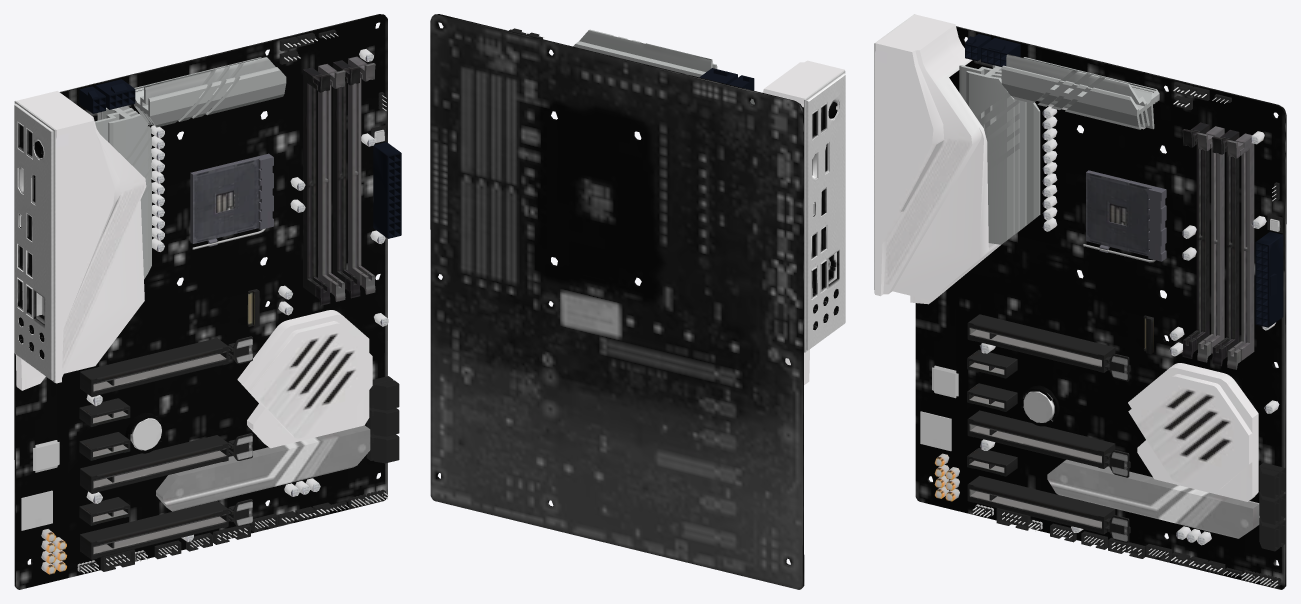
Rendered from motherboard_x570_lod1.glb.
3 views of the same model, side by side, from view 1: azimuth 30°, elevation 25°; view 2: azimuth 150°, elevation 25°; view 3: azimuth 330°, elevation 25° (orthographic).
Parts seen in each view (by area): view 1: pCylinder41_M_Mobo_0, polySurface20_f_2693_1_M_Cover_0, polySurface21_M_sockets_0; view 2: pCylinder41_M_Mobo_0, polySurface21_M_sockets_0, polySurface20_f_2693_1_M_Cover_0; view 3: pCylinder41_M_Mobo_0, polySurface20_f_2693_1_M_Cover_0, polySurface21_M_sockets_0.
Part boxes in pixels (x1=…): pCylinder41_M_Mobo_0: x1=14, y1=14, x2=387, y2=589; polySurface20_f_2693_1_M_Cover_0: x1=15, y1=29, x2=399, y2=574; polySurface21_M_sockets_0: x1=79, y1=56, x2=401, y2=559; pCylinder41_M_Mobo_0: x1=430, y1=14, x2=845, y2=589; polySurface21_M_sockets_0: x1=573, y1=29, x2=754, y2=104; polySurface20_f_2693_1_M_Cover_0: x1=496, y1=27, x2=844, y2=384; pCylinder41_M_Mobo_0: x1=874, y1=14, x2=1286, y2=589; polySurface20_f_2693_1_M_Cover_0: x1=875, y1=14, x2=1285, y2=587; polySurface21_M_sockets_0: x1=959, y1=34, x2=1283, y2=543.
Size of the model in its own units: 2.6 by 3.23 by 0.4993.
3 materials, 3 textured.
